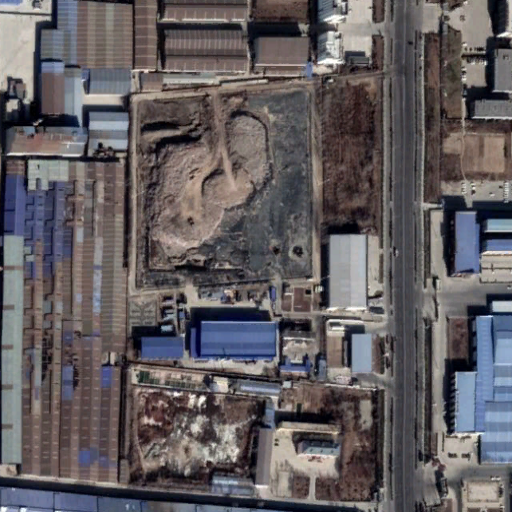lf: (129, 84, 315, 282)
